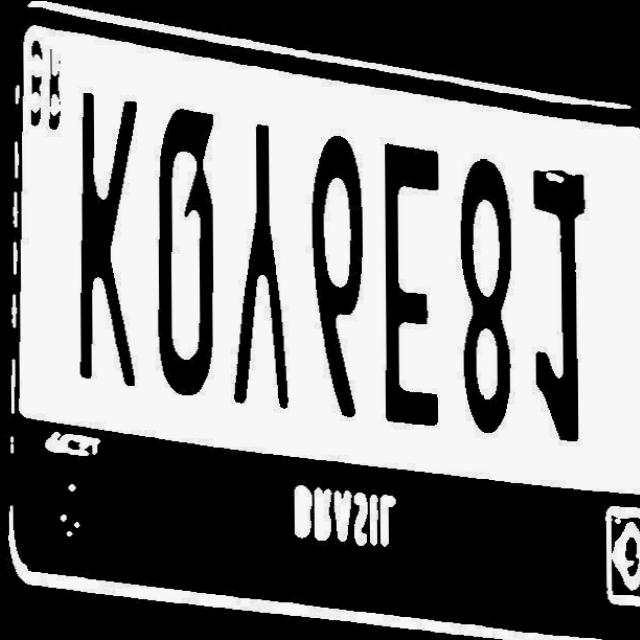1: (525, 164, 593, 449)
6: (304, 133, 372, 422)
8: (454, 153, 518, 437)
e: (376, 138, 448, 430)
k: (67, 86, 142, 390)
q: (149, 104, 223, 398), (227, 118, 295, 412)
